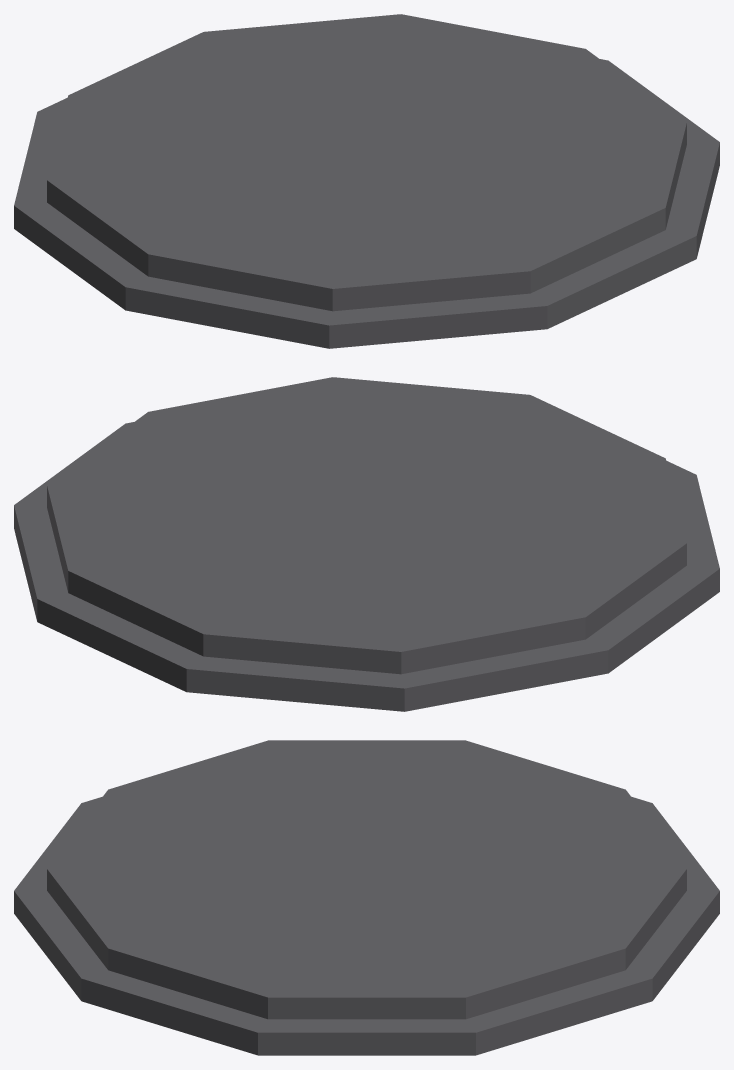
File: foundation4.fbx
3 renders of one model, top to bottom at view 1: azimuth 30°, elevation 25°; view 2: azimuth 150°, elevation 25°; view 3: azimuth 270°, elevation 25°, orthographic. The views are drawn at different scales.
Parts seen in each view (by area): view 1: foundation4; view 2: foundation4; view 3: foundation4.
Part boxes in pixels (x1=…): foundation4: x1=14, y1=14, x2=719, y2=348; foundation4: x1=14, y1=377, x2=719, y2=711; foundation4: x1=14, y1=740, x2=719, y2=1055.
Bounding box in the file's own units: 2192 × 161 × 2305.
